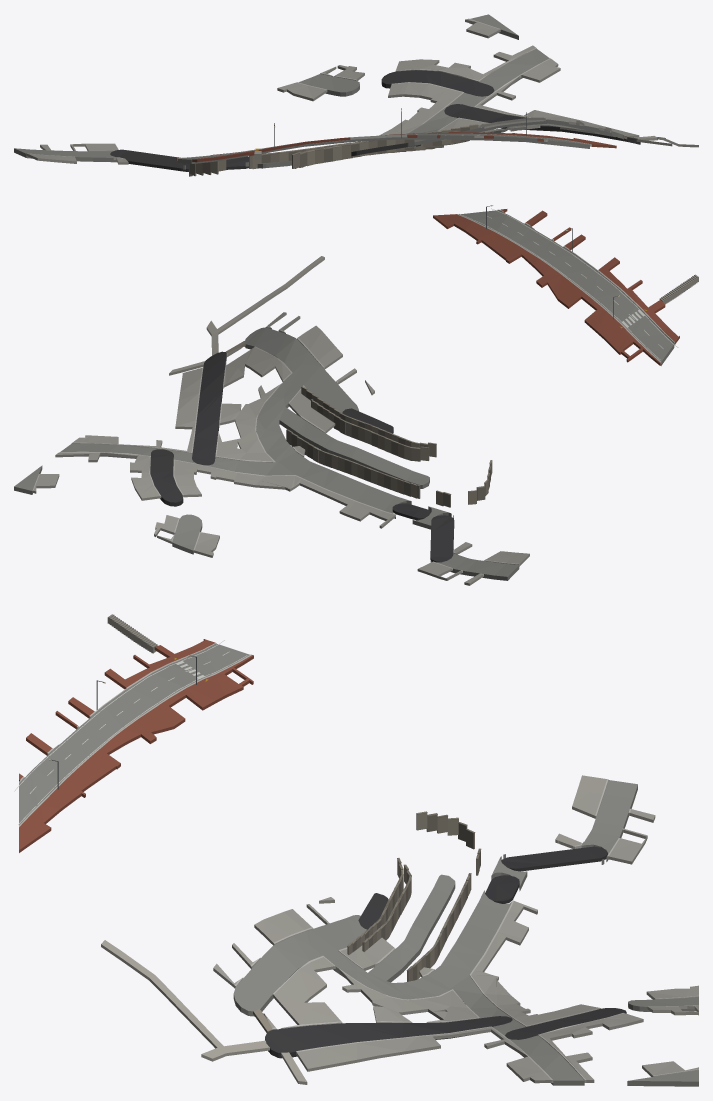
3 views of the same model, one above another, from view 1: azimuth 30°, elevation 25°; view 2: azimuth 150°, elevation 25°; view 3: azimuth 270°, elevation 25° (orthographic). The views are drawn at different scales.
Bounding box in the file's own units: 149 × 55.51 × 147.
